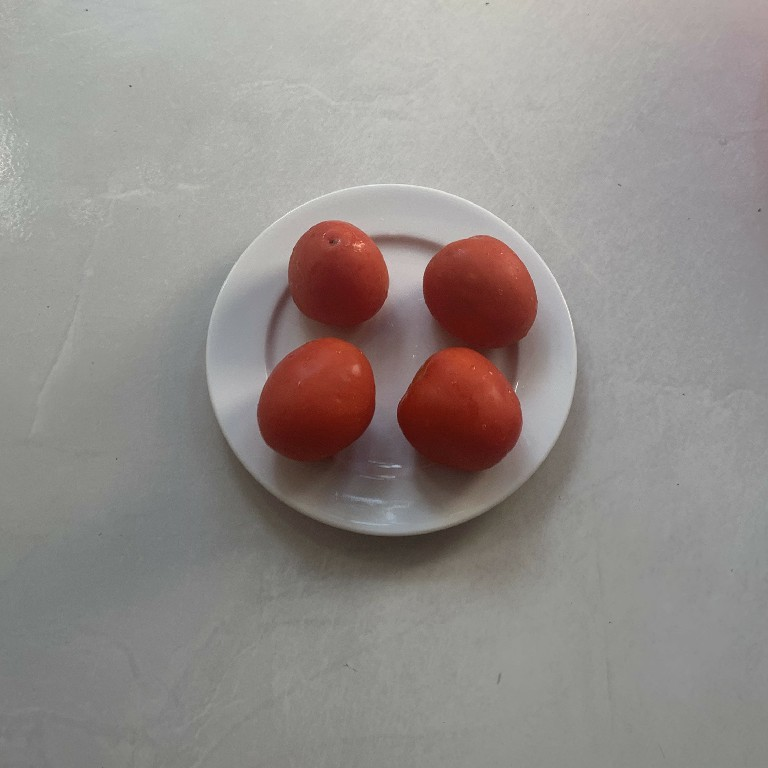OK: (249, 332, 381, 473), (395, 346, 529, 480), (421, 229, 542, 352), (281, 216, 393, 332)
